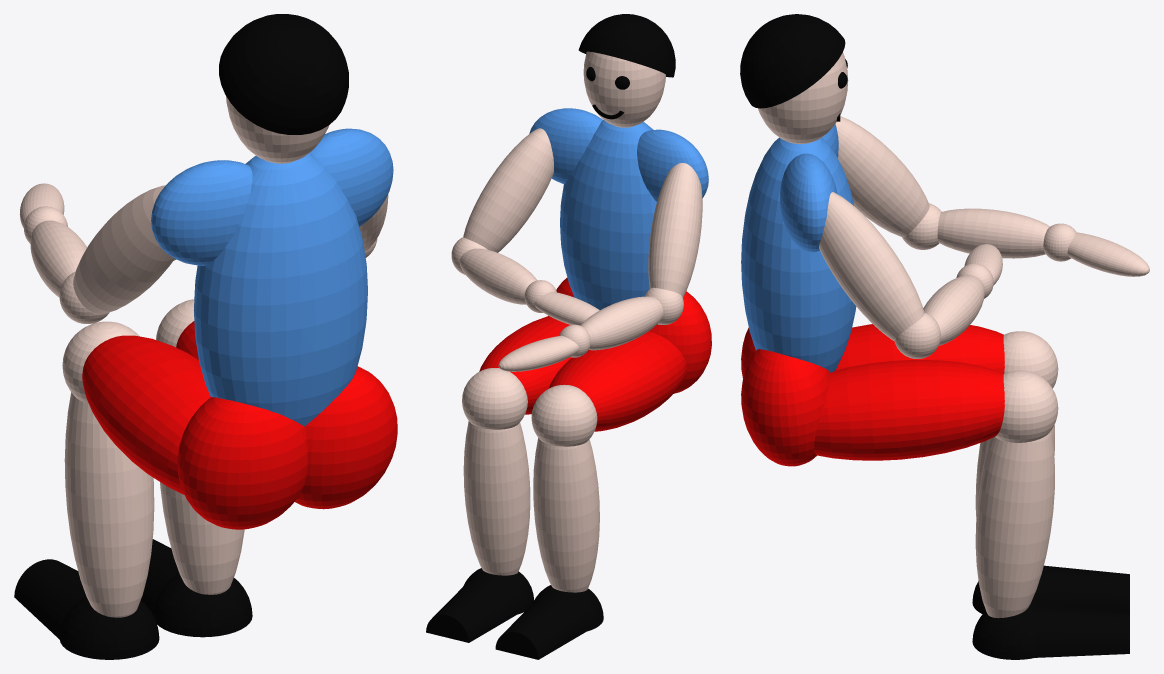
The model's file is Ferfiulo.glb.
3 renders of one model, left to right at view 1: azimuth 30°, elevation 25°; view 2: azimuth 150°, elevation 25°; view 3: azimuth 270°, elevation 25°, orthographic. The views are drawn at different scales.
Visible parts, largest first — view 1: VisualSceneNode1.001, VisualSceneNode1.008, VisualSceneNode1.053, VisualSceneNode1.003, VisualSceneNode1.047, VisualSceneNode1.052, VisualSceneNode1.005, VisualSceneNode1.013, VisualSceneNode1.009, VisualSceneNode1.054, VisualSceneNode1.011, VisualSceneNode1 (+10 smaller); view 2: VisualSceneNode1.001, VisualSceneNode1.008, VisualSceneNode1.009, VisualSceneNode1.003, VisualSceneNode1.055, VisualSceneNode1.013, VisualSceneNode1.002, VisualSceneNode1.047, VisualSceneNode1.010, VisualSceneNode1.012, VisualSceneNode1.006, VisualSceneNode1.007 (+14 smaller); view 3: VisualSceneNode1.004, VisualSceneNode1.001, VisualSceneNode1.009, VisualSceneNode1.055, VisualSceneNode1.052, VisualSceneNode1.047, VisualSceneNode1.013, VisualSceneNode1.010, VisualSceneNode1.045, VisualSceneNode1.003, VisualSceneNode1.054, VisualSceneNode1.002 (+10 smaller).
Boxes of the visible parts, <box> form: VisualSceneNode1.001: <box>193,153,367,426</box>; VisualSceneNode1.008: <box>64,392,154,617</box>; VisualSceneNode1.053: <box>177,397,307,529</box>; VisualSceneNode1.003: <box>82,335,210,494</box>; VisualSceneNode1.047: <box>219,14,348,134</box>; VisualSceneNode1.052: <box>294,366,397,509</box>; VisualSceneNode1.005: <box>151,160,252,265</box>; VisualSceneNode1.013: <box>73,185,174,314</box>; VisualSceneNode1.009: <box>160,482,244,594</box>; VisualSceneNode1.054: <box>309,128,393,226</box>; VisualSceneNode1.011: <box>60,596,159,659</box>; VisualSceneNode1: <box>153,573,252,637</box>; VisualSceneNode1.001: <box>560,120,656,309</box>; VisualSceneNode1.008: <box>533,438,599,592</box>; VisualSceneNode1.009: <box>463,421,530,575</box>; VisualSceneNode1.003: <box>549,331,686,431</box>; VisualSceneNode1.055: <box>463,128,553,252</box>; VisualSceneNode1.013: <box>648,163,702,297</box>; VisualSceneNode1.002: <box>583,51,665,127</box>; VisualSceneNode1.047: <box>578,14,675,77</box>; VisualSceneNode1.010: <box>426,577,516,642</box>; VisualSceneNode1.012: <box>495,594,586,659</box>; VisualSceneNode1.006: <box>531,384,597,446</box>; VisualSceneNode1.007: <box>462,368,527,429</box>; VisualSceneNode1.004: <box>814,360,1004,460</box>; VisualSceneNode1.001: <box>741,137,856,372</box>; VisualSceneNode1.009: <box>975,430,1054,618</box>; VisualSceneNode1.055: <box>819,192,924,341</box>; VisualSceneNode1.052: <box>741,349,830,466</box>; VisualSceneNode1.047: <box>740,14,845,108</box>; VisualSceneNode1.013: <box>835,116,929,237</box>; VisualSceneNode1.010: <box>1034,604,1129,657</box>; VisualSceneNode1.045: <box>937,208,1049,258</box>; VisualSceneNode1.003: <box>835,324,1004,373</box>; VisualSceneNode1.054: <box>780,153,837,252</box>; VisualSceneNode1.002: <box>758,52,848,143</box>.
Size of the model in its own units: 0.6407 by 1.39 by 0.859.
